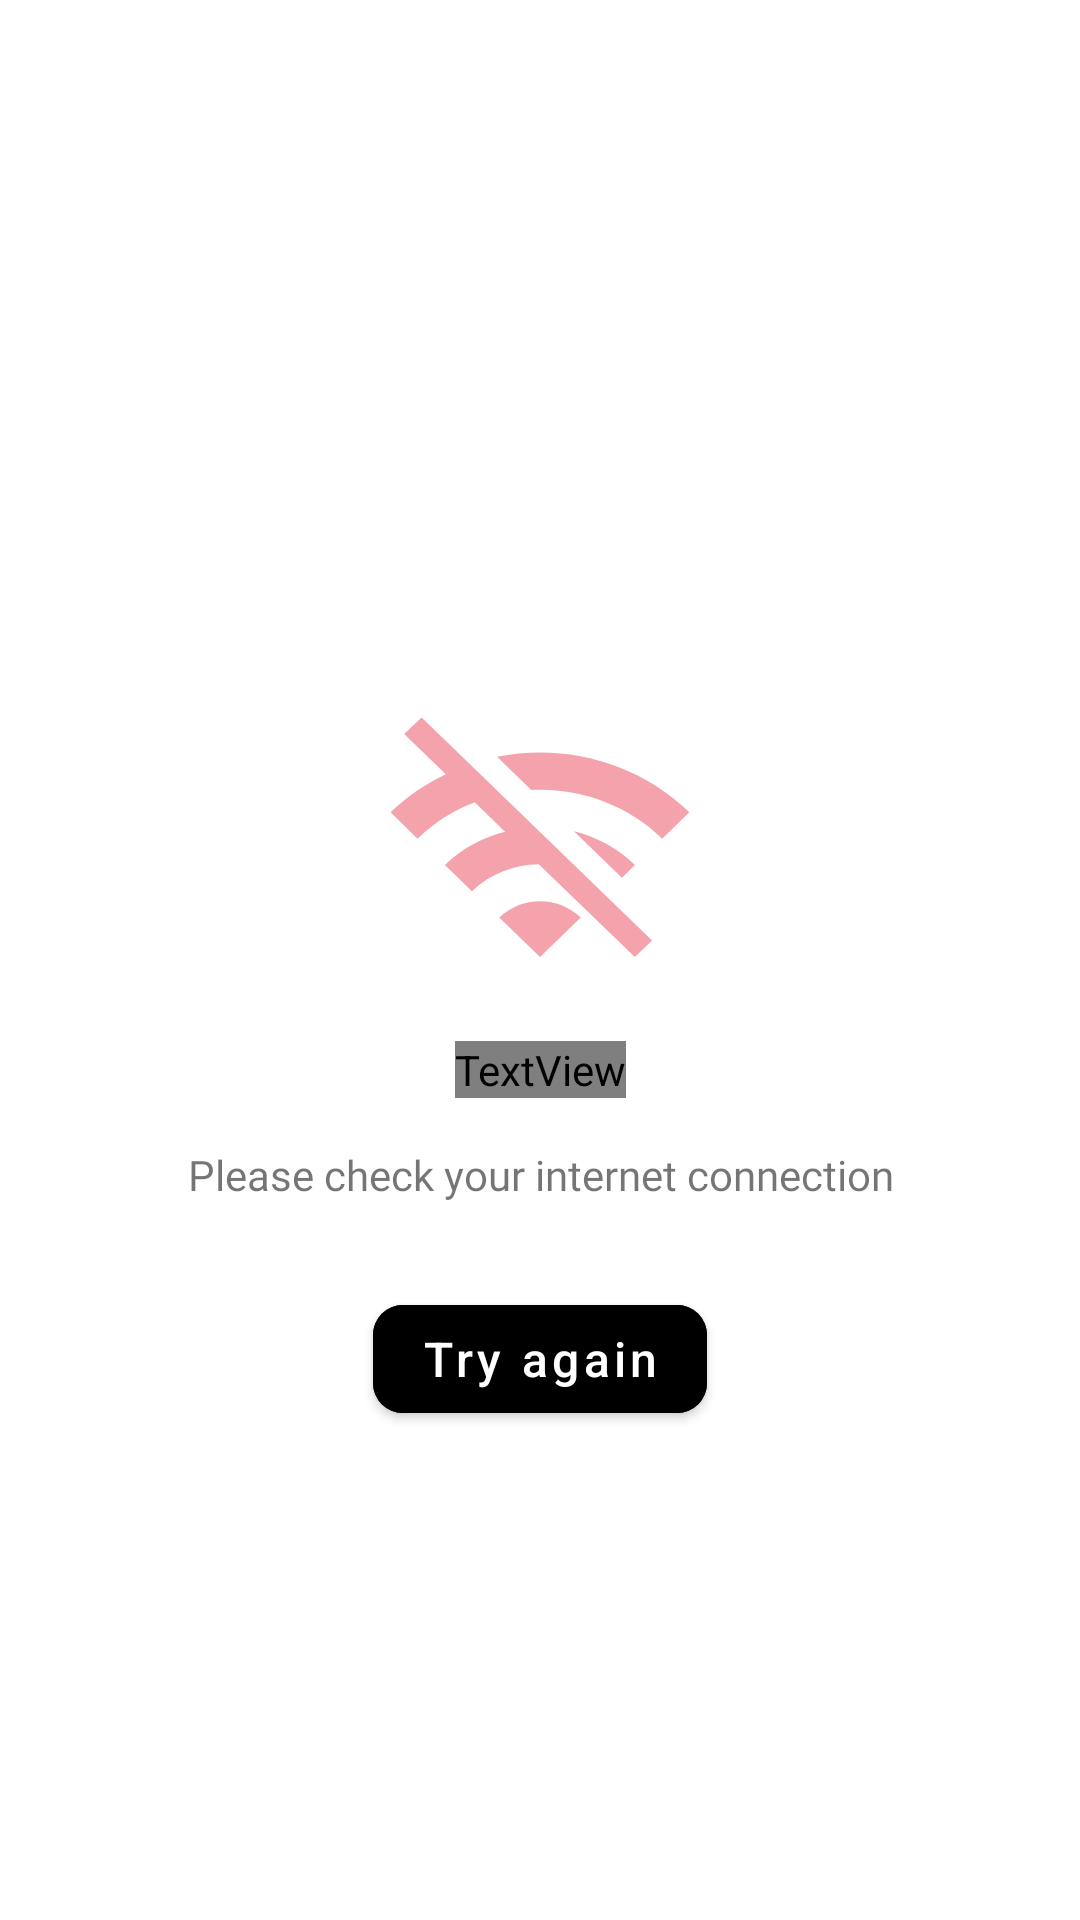

Icons on this 1080x1920 Android screen, each with the point to tap as [x,y]:
wifi: [540,837]
